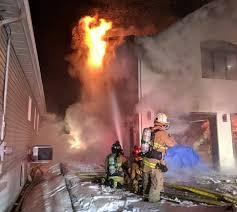fire: (79, 14, 111, 69), (67, 130, 83, 150)
